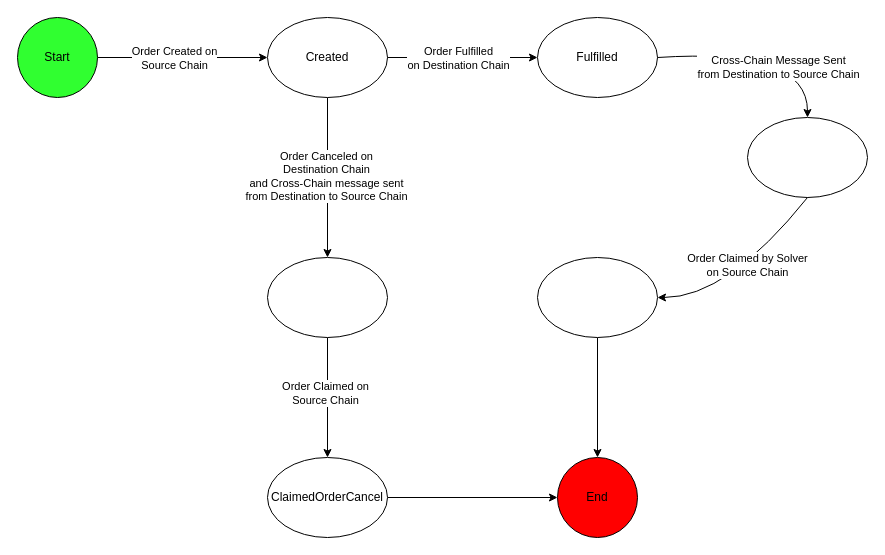
This 885x555 diagram has some shape labels left out. Each missing label, with the centre of its shape:
"ClaimedUnlock" goes at (597,297).
"OrderCancelled" goes at (327,297).
"SentUnlock" goes at (807,157).
